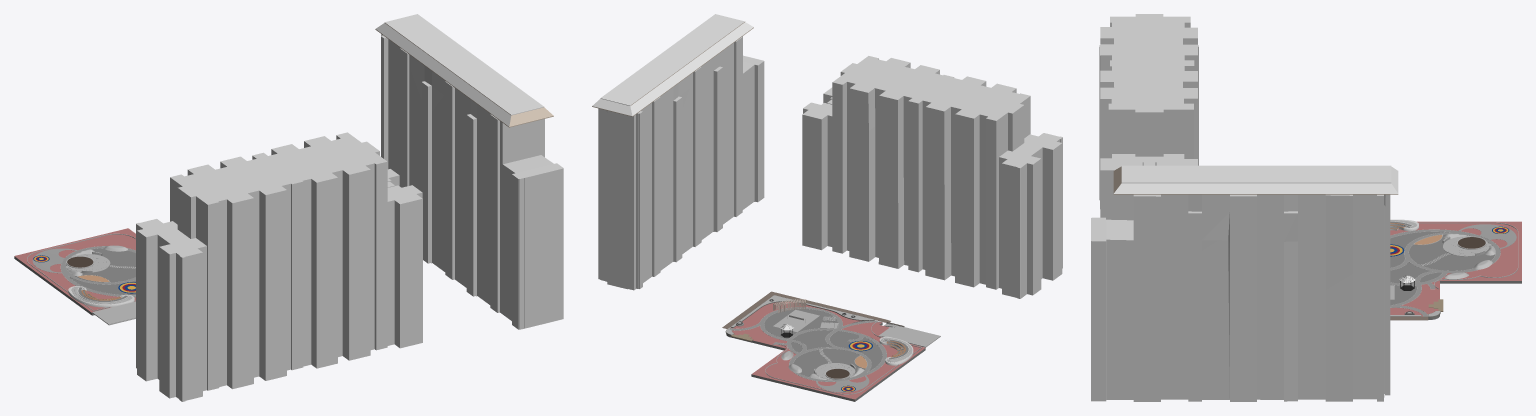
The picture shows the model from 3 angles, left to right: view 1: azimuth 30°, elevation 25°; view 2: azimuth 150°, elevation 25°; view 3: azimuth 270°, elevation 25°; orthographic projection. The views are drawn at different scales.
Parts seen in each view (by area): view 1: Tower_B_Low_Poly_Cage, Tower_A_Low_Poly_Cage, Tower_B_Low_Poly, Line2062833066, Park, Line012, Tower_A_Low_Poly, Rectangle53834, Line009; view 2: Tower_B_Low_Poly_Cage, Tower_A_Low_Poly_Cage, Tower_B_Low_Poly, Line2062833066, Park, Line012, Tower_A_Low_Poly, Line009, Line2062833017, Rectangle53834, Volleyball_playground_15500x24900, Line12873 (+1 smaller); view 3: Tower_A_Low_Poly_Cage, Tower_B_Low_Poly_Cage, Tower_B_Low_Poly, Line2062833066, Park, Line012, Line009, Tower_A_Low_Poly, Line025, Terrain002, Line12873, Line014.
Part boxes in pixels (left/top/right/bottom): Tower_B_Low_Poly_Cage: left=136, top=132, right=422, bottom=401; Tower_A_Low_Poly_Cage: left=381, top=34, right=563, bottom=329; Tower_B_Low_Poly: left=136, top=137, right=420, bottom=400; Line2062833066: left=375, top=14, right=553, bottom=127; Park: left=14, top=228, right=135, bottom=312; Line012: left=14, top=248, right=135, bottom=315; Tower_A_Low_Poly: left=387, top=39, right=542, bottom=296; Rectangle53834: left=92, top=301, right=135, bottom=324; Line009: left=61, top=246, right=135, bottom=296; Tower_B_Low_Poly_Cage: left=802, top=56, right=1062, bottom=298; Tower_A_Low_Poly_Cage: left=598, top=36, right=764, bottom=290; Tower_B_Low_Poly: left=807, top=57, right=1061, bottom=298; Line2062833066: left=592, top=14, right=753, bottom=116; Park: left=730, top=302, right=925, bottom=399; Line012: left=726, top=309, right=925, bottom=401; Tower_A_Low_Poly: left=600, top=71, right=755, bottom=289; Line009: left=729, top=307, right=886, bottom=381; Line2062833017: left=722, top=291, right=890, bottom=328; Rectangle53834: left=882, top=325, right=940, bottom=347; Volleyball_playground_15500x24900: left=773, top=309, right=819, bottom=332; Line12873: left=732, top=307, right=886, bottom=381; Tower_A_Low_Poly_Cage: left=1091, top=194, right=1390, bottom=401; Tower_B_Low_Poly_Cage: left=1099, top=14, right=1198, bottom=220; Tower_B_Low_Poly: left=1102, top=14, right=1196, bottom=169; Line2062833066: left=1113, top=165, right=1398, bottom=194; Park: left=1390, top=221, right=1521, bottom=316; Line012: left=1390, top=231, right=1521, bottom=319; Line009: left=1390, top=229, right=1500, bottom=316; Tower_A_Low_Poly: left=1325, top=195, right=1390, bottom=401; Line025: left=1458, top=224, right=1516, bottom=248; Terrain002: left=1442, top=233, right=1495, bottom=279; Line12873: left=1390, top=229, right=1500, bottom=316; Line014: left=1444, top=237, right=1488, bottom=256.
Bounding box in the file's own units: 148 × 75.78 × 135.
